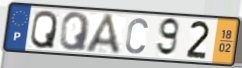2: (185, 20, 211, 61)
9: (154, 17, 181, 59)
A: (83, 12, 123, 57)
C: (124, 16, 150, 55)
Q: (58, 11, 92, 52), (28, 9, 59, 51)
